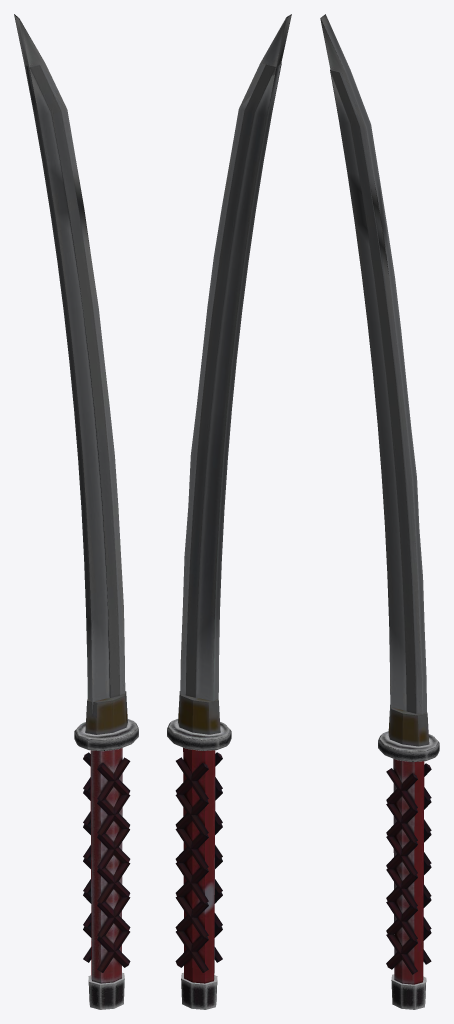
The model's file is 07_009_katana.glb.
3 renders of one model, left to right at view 1: azimuth 30°, elevation 25°; view 2: azimuth 150°, elevation 25°; view 3: azimuth 330°, elevation 25°, orthographic. The views are drawn at different scales.
Parts seen in each view (by area): view 1: Katana; view 2: Katana; view 3: Katana.
Boxes of the visible parts, x1=… form: Katana: x1=14, y1=14, x2=138, y2=1009; Katana: x1=167, y1=14, x2=291, y2=1009; Katana: x1=320, y1=14, x2=439, y2=1009.
Bounding box in the file's own units: 0.0534 × 0.4357 × 0.0211.
1 material, 1 textured.
